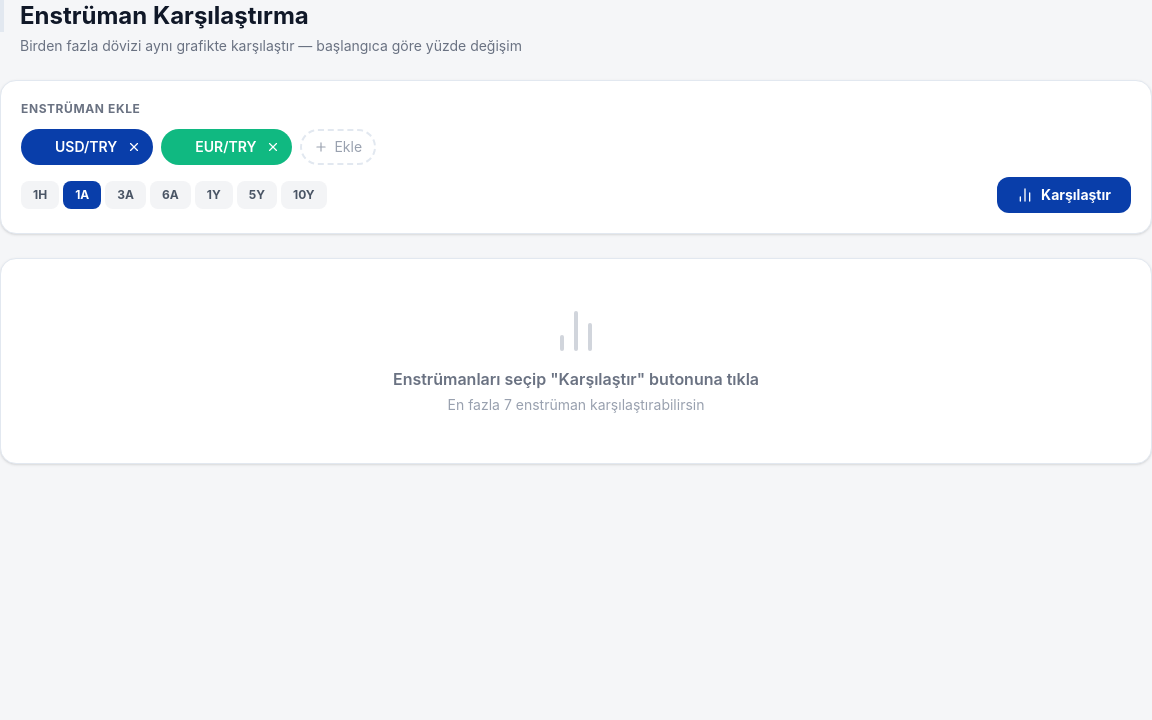
Test: ComparePage (FX enstrüman karşılaştırma) — jsdom + testing-library › "Karşılaştır" tıklanınca her enstrüman için getFxHistory çağrılır ve sonuç tabloları yüklenir
The width and height of the screenshot is (1152, 720).
Click the button "Karşılaştır".
click(1064, 195)  # box [997,177,1131,213]
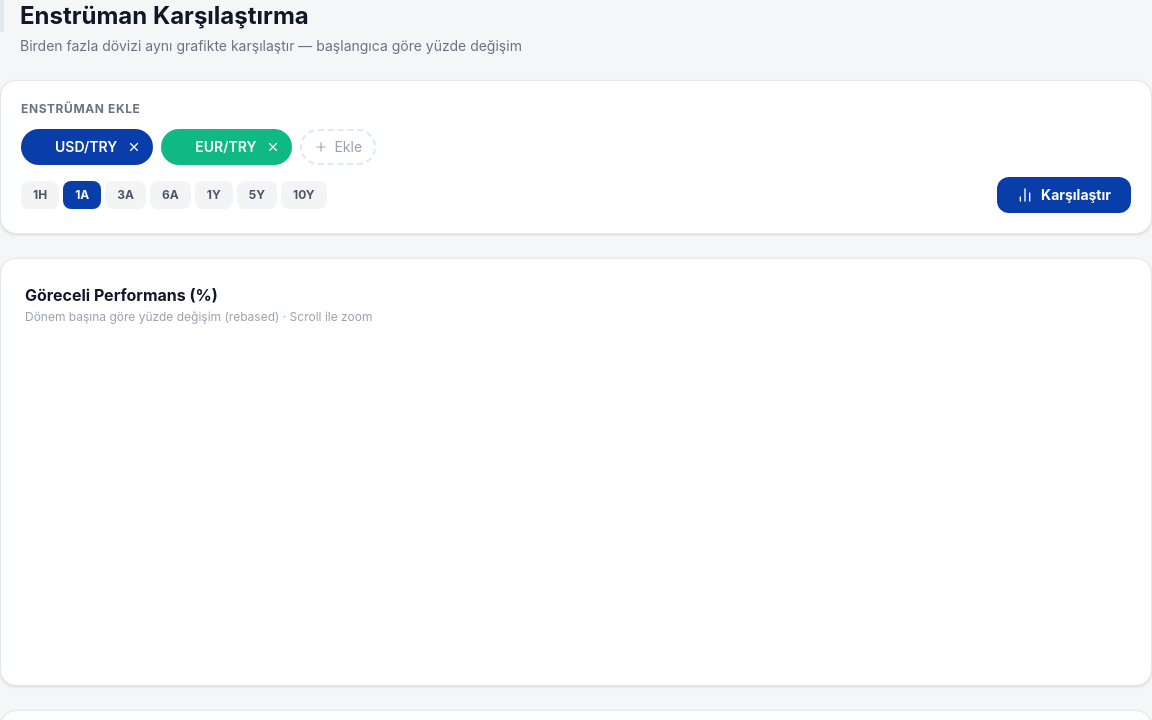
expect the heading "Göreceli Performans (%)" is shown: met, box [25,285,218,305]
expect the text "Enstrümanları seçip \"Karşılaştır\" butonuna tıkla" is gone: met
